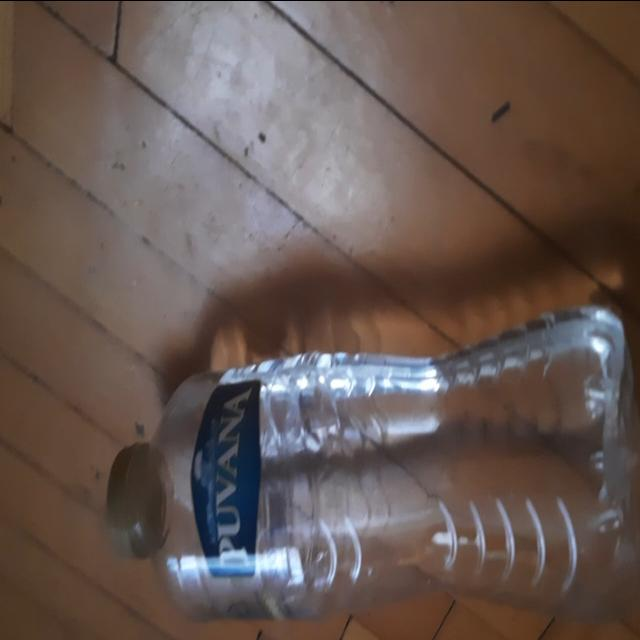Plastic: (106, 301, 640, 625)
